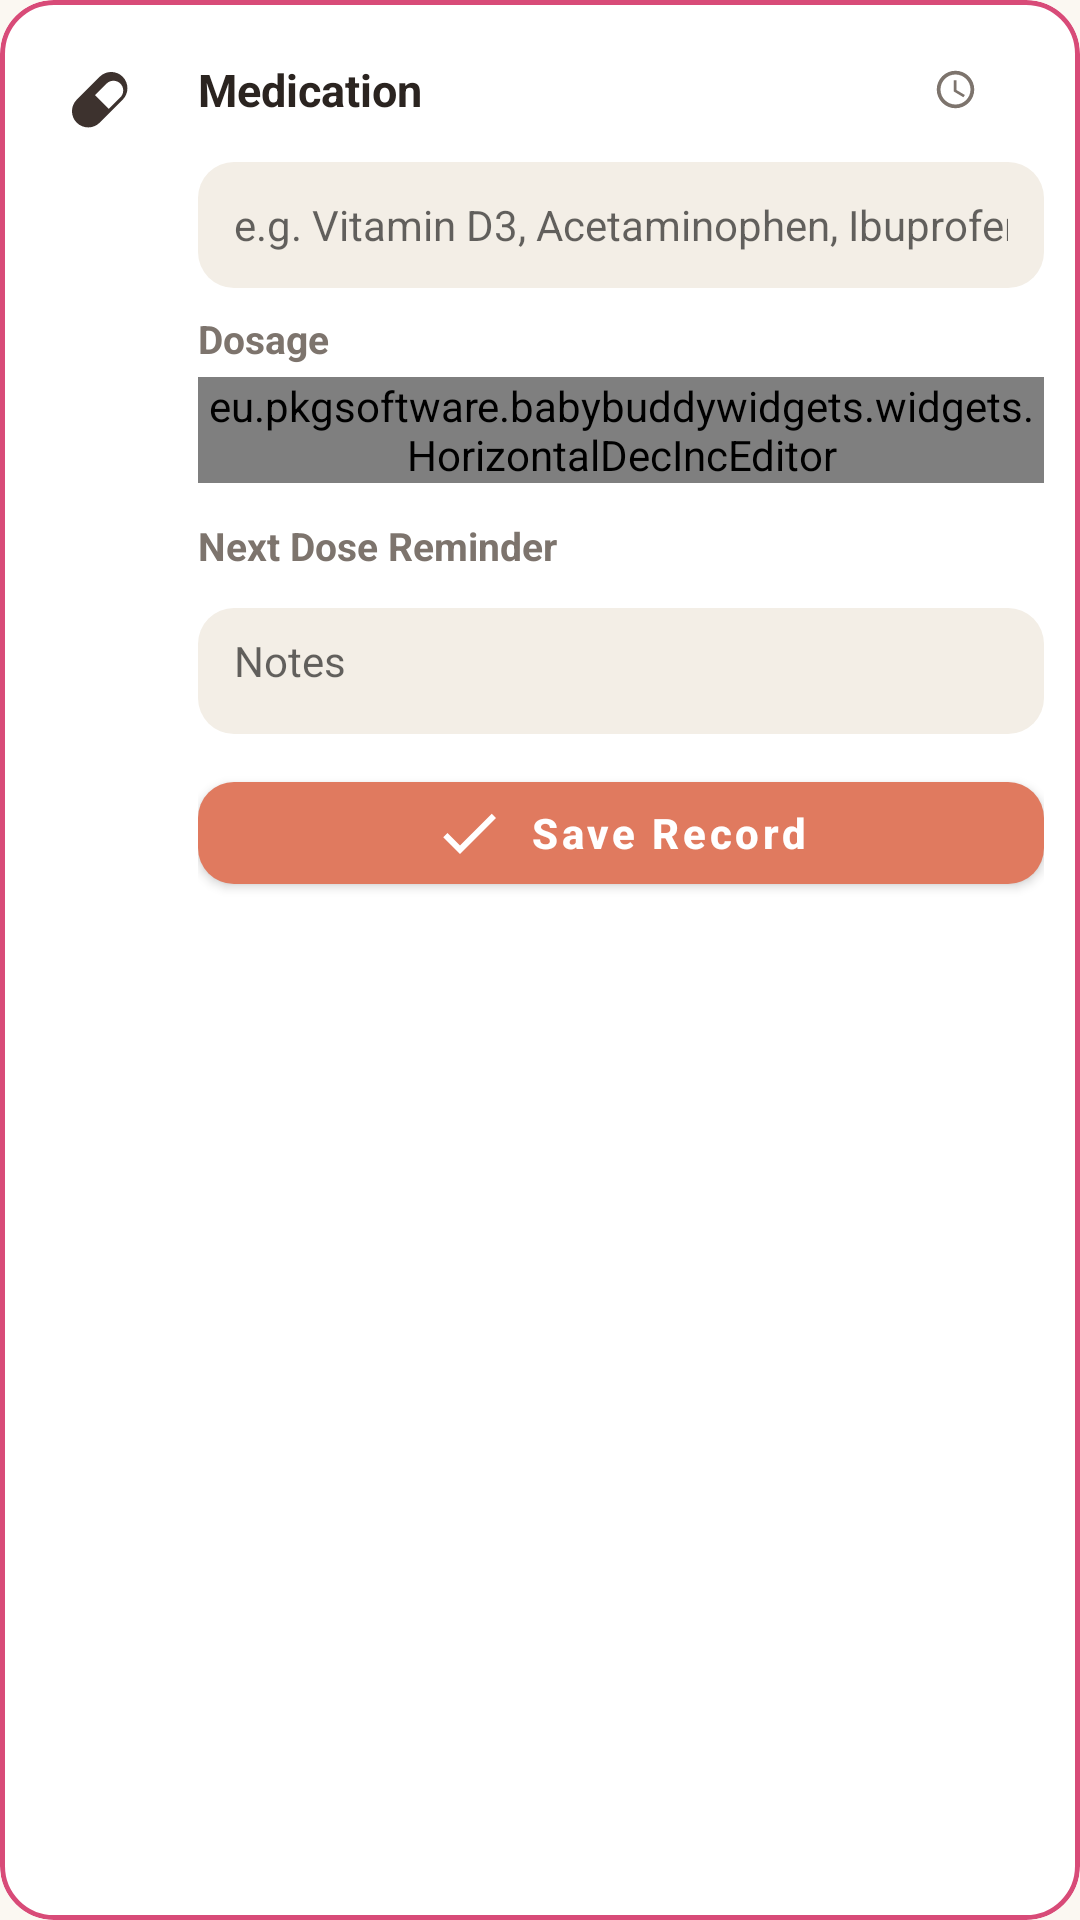

Icons on this 1080*1920 Android screen, each with the point to tap as [x,y]:
schedule clock: [955,89]
